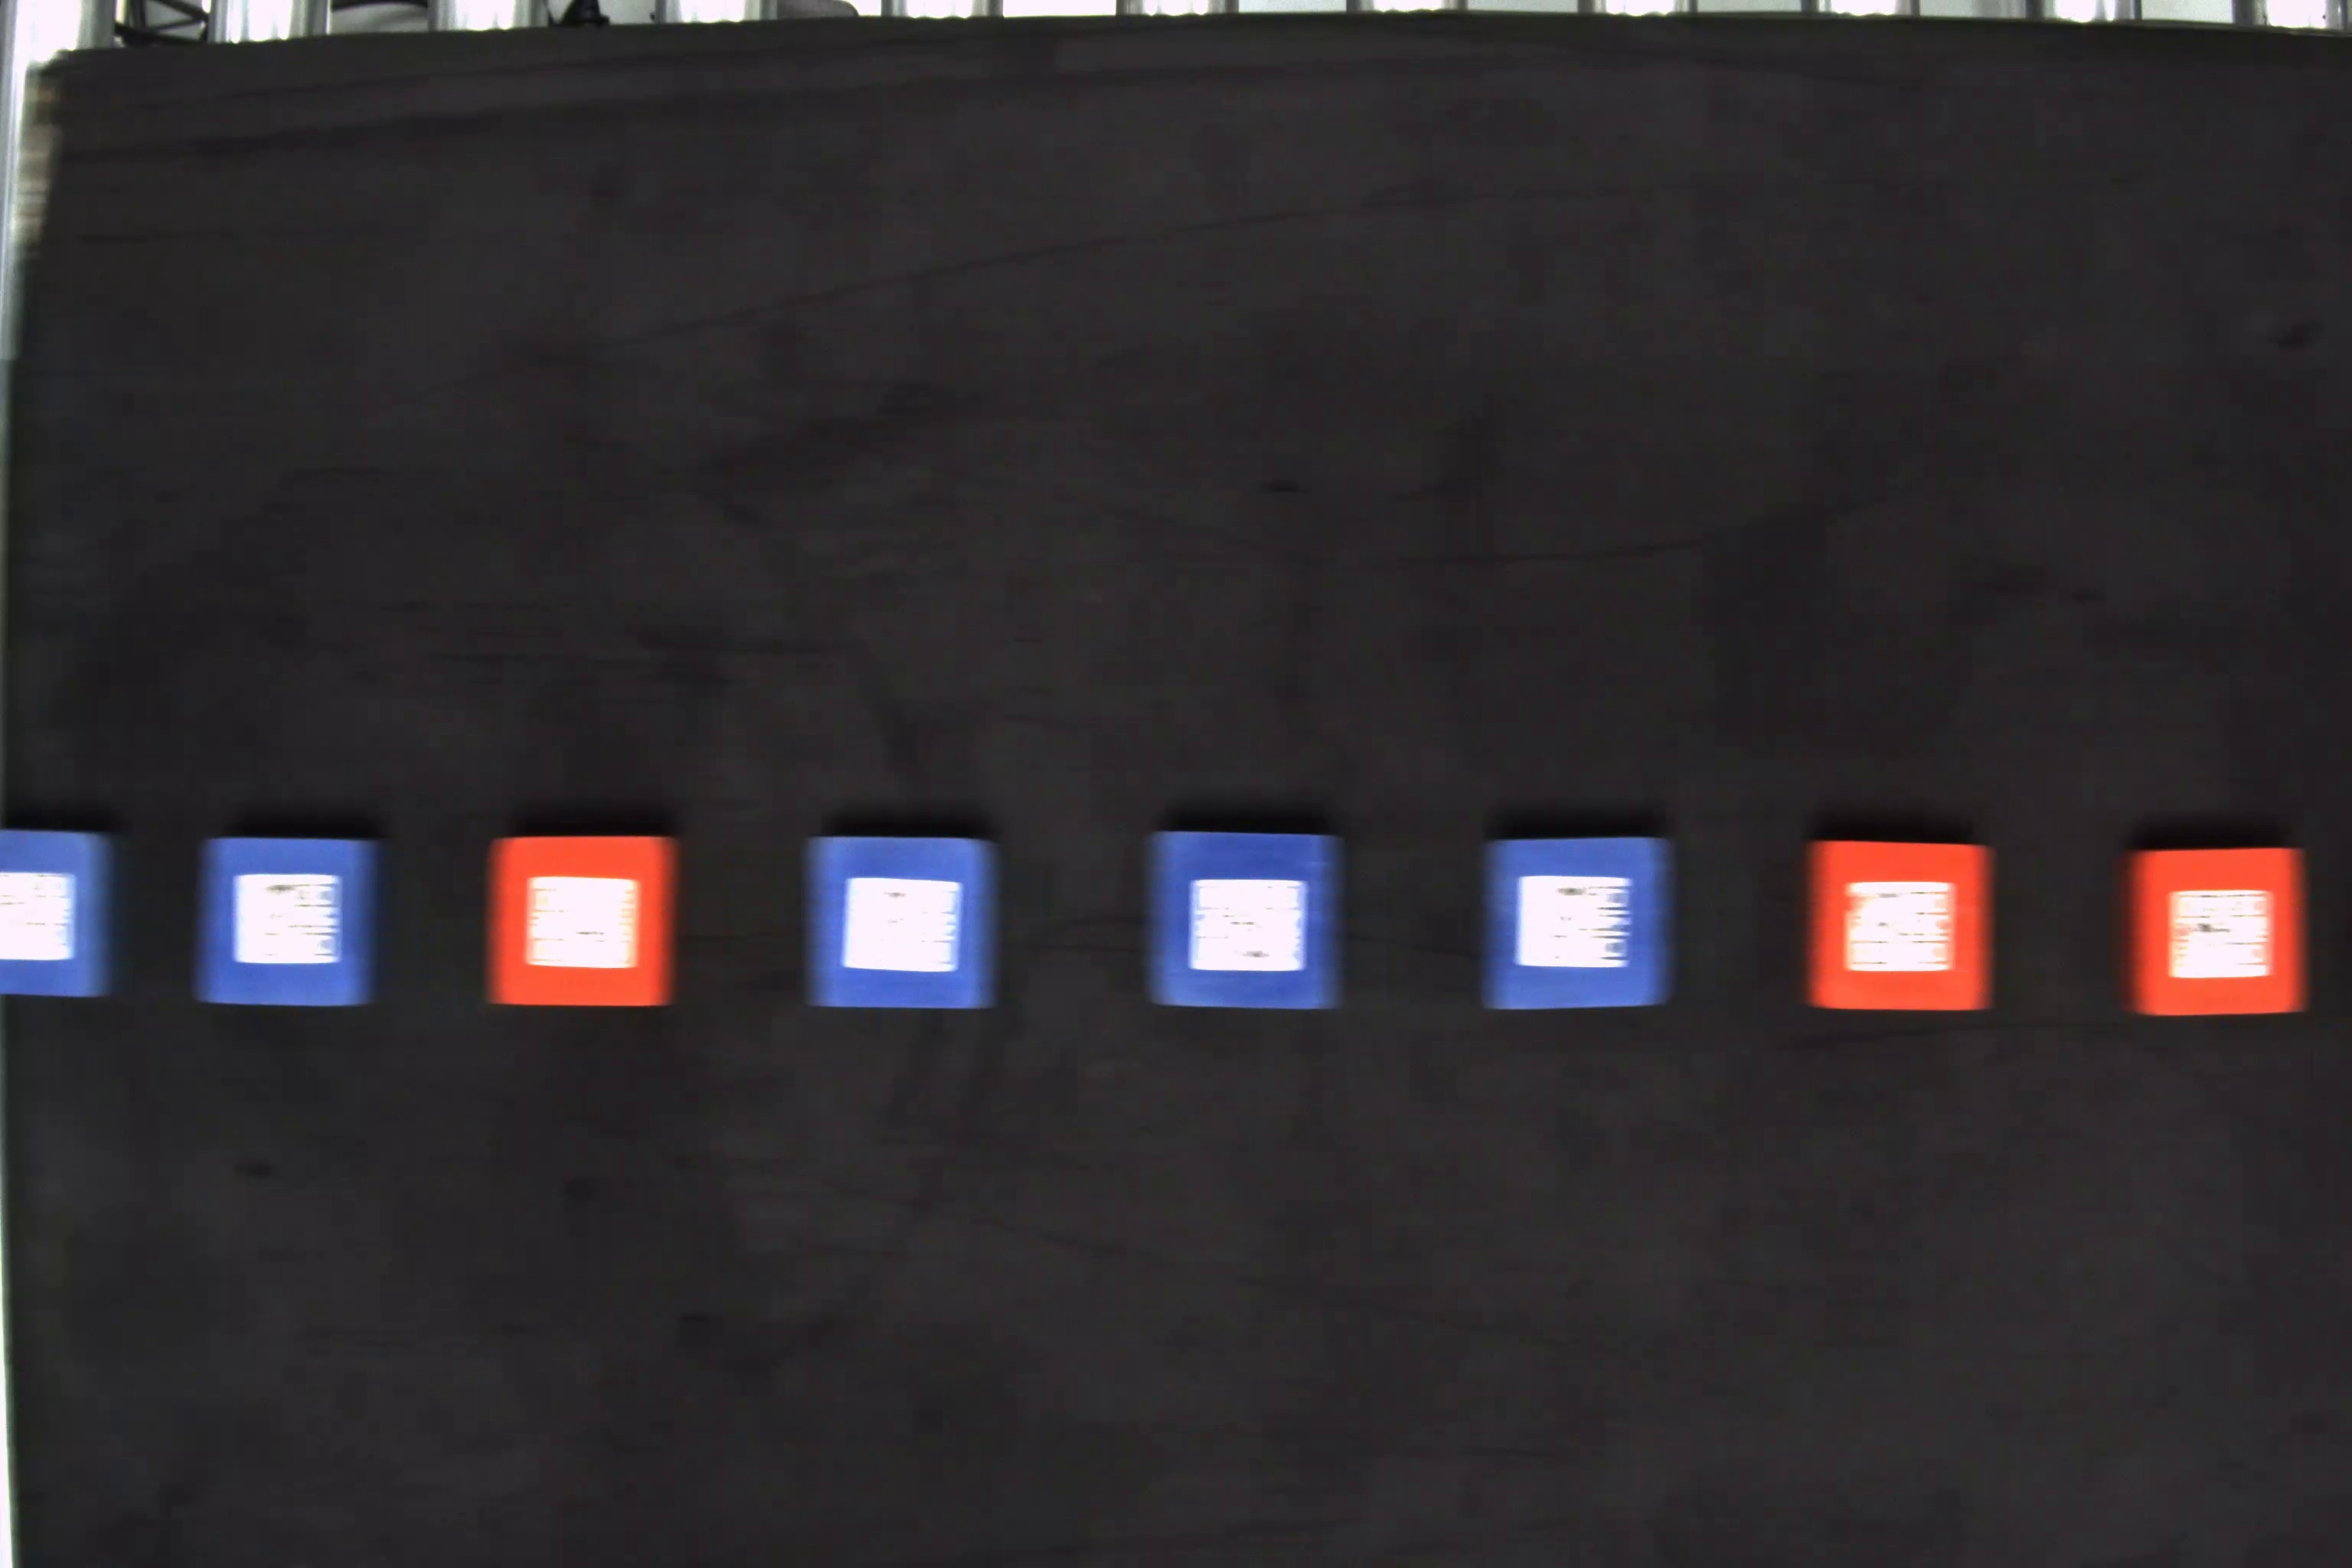wood: (1137, 828, 1347, 1006), (1479, 835, 1683, 1013), (1797, 833, 1997, 1013), (800, 833, 1003, 1008), (485, 836, 682, 1015), (2114, 836, 2313, 1013), (199, 833, 380, 1006), (10, 826, 117, 992)
